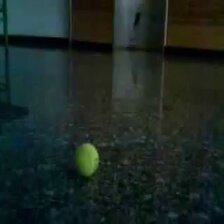tennis: (74, 143, 100, 176)
